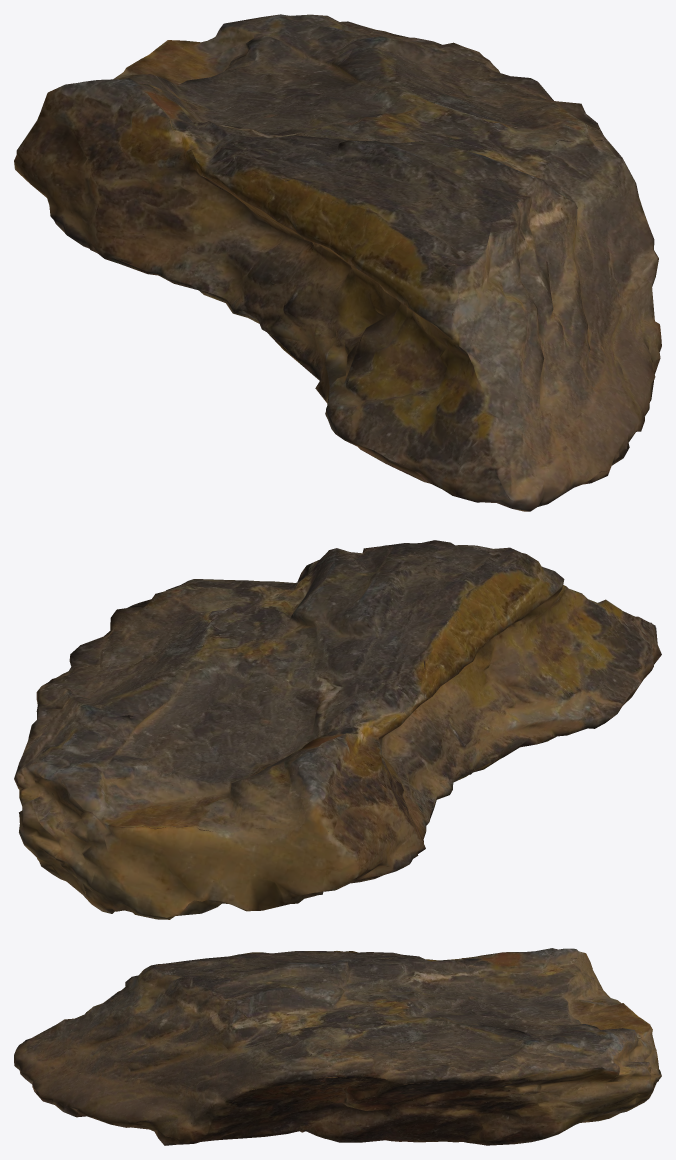
Rendered from rock_09.glb.
3 renders of one model, top to bottom at view 1: azimuth 30°, elevation 25°; view 2: azimuth 150°, elevation 25°; view 3: azimuth 270°, elevation 25°, orthographic. The views are drawn at different scales.
Parts seen in each view (by area): view 1: rock_09_LOD0; view 2: rock_09_LOD0; view 3: rock_09_LOD0.
Boxes of the visible parts, box(x1,y1,x2,y2) form: rock_09_LOD0: box(14, 14, 661, 511); rock_09_LOD0: box(14, 540, 661, 919); rock_09_LOD0: box(14, 948, 661, 1145).
Size of the model in its own units: 0.0739 by 0.0329 by 0.1447.
1 material, 1 textured.
